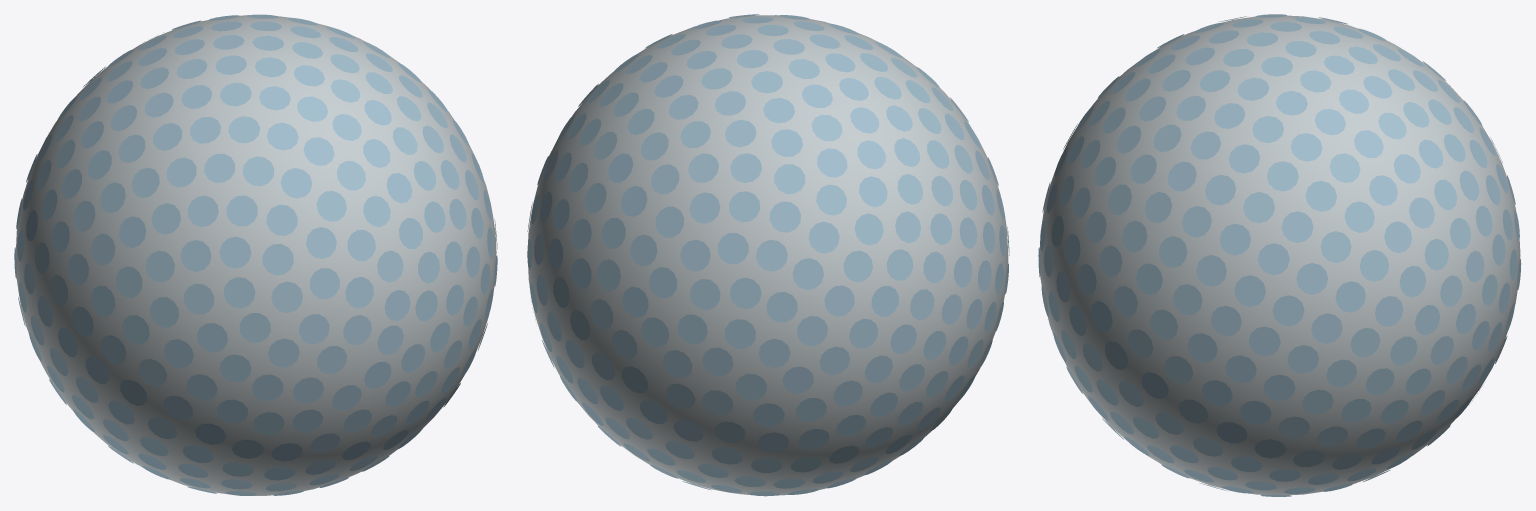
File: lageos.glb
3 renders of one model, left to right at view 1: azimuth 30°, elevation 25°; view 2: azimuth 150°, elevation 25°; view 3: azimuth 270°, elevation 25°, orthographic.
Visible parts, largest first — view 1: Spherical body, Laser retroreflectors; view 2: Spherical body, Laser retroreflectors; view 3: Spherical body, Laser retroreflectors.
Part boxes in pixels (x1,y1,x2,y2): Spherical body: [16, 15, 496, 495]; Laser retroreflectors: [14, 14, 497, 495]; Spherical body: [528, 15, 1008, 495]; Laser retroreflectors: [527, 14, 1009, 496]; Spherical body: [1039, 15, 1520, 495]; Laser retroreflectors: [1038, 14, 1521, 496].
Size of the model in its own units: 0.6022 by 0.6025 by 0.6025.
